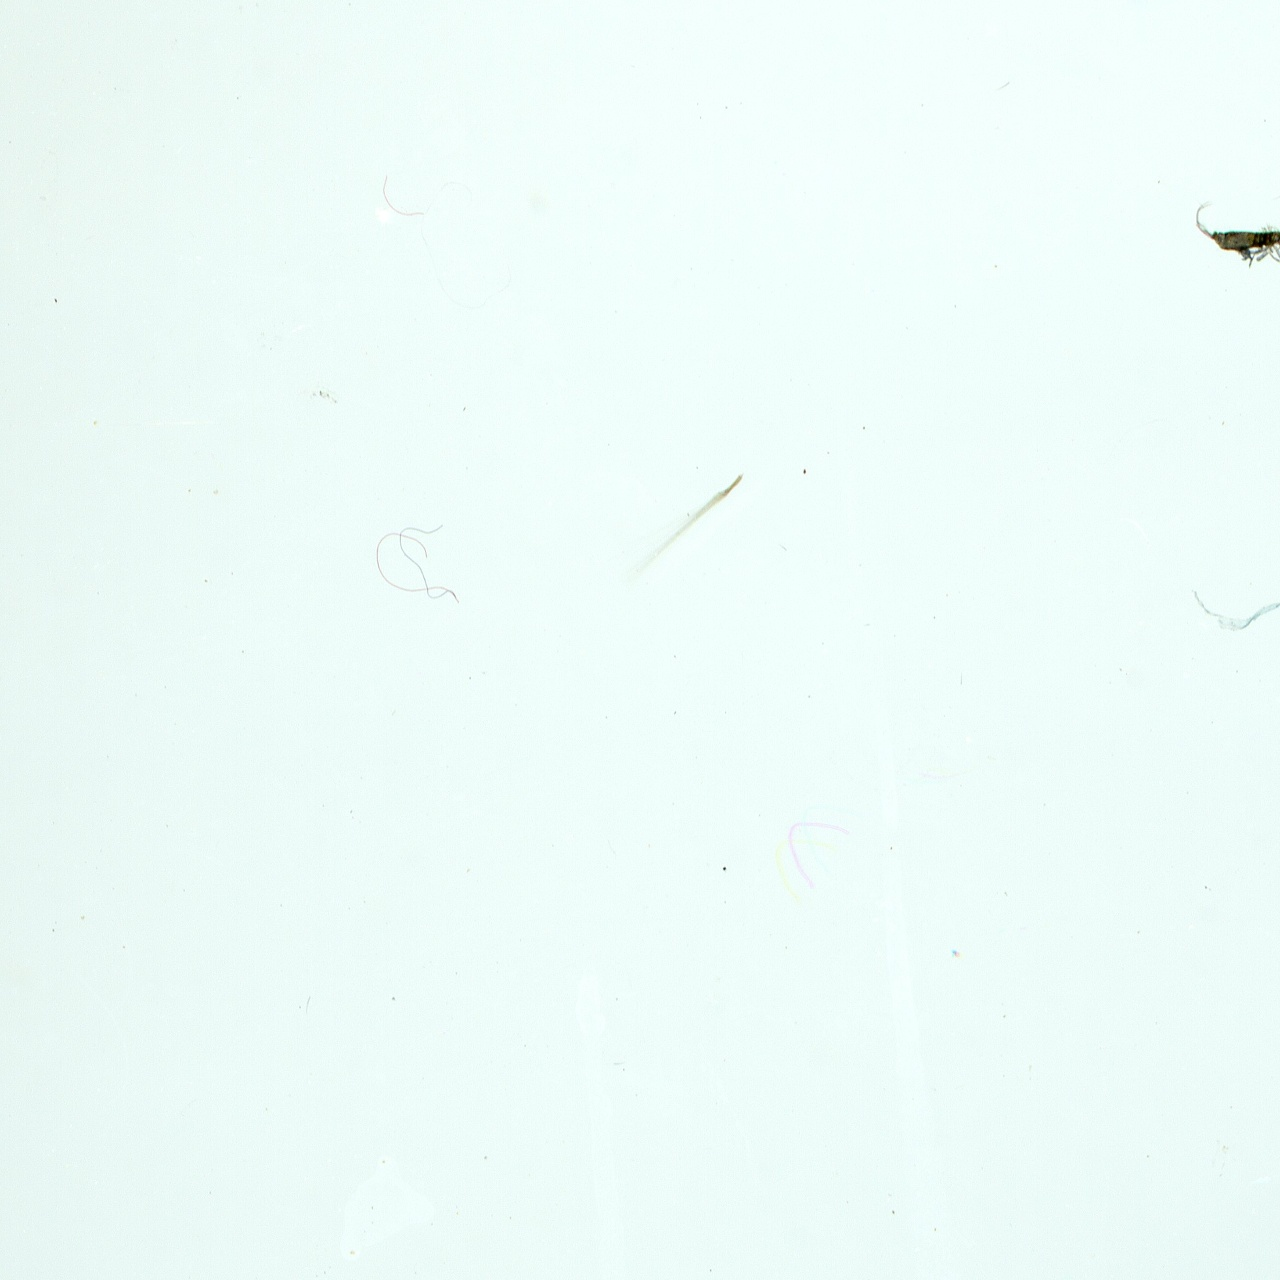arthropod: (1184, 205, 1280, 278)
